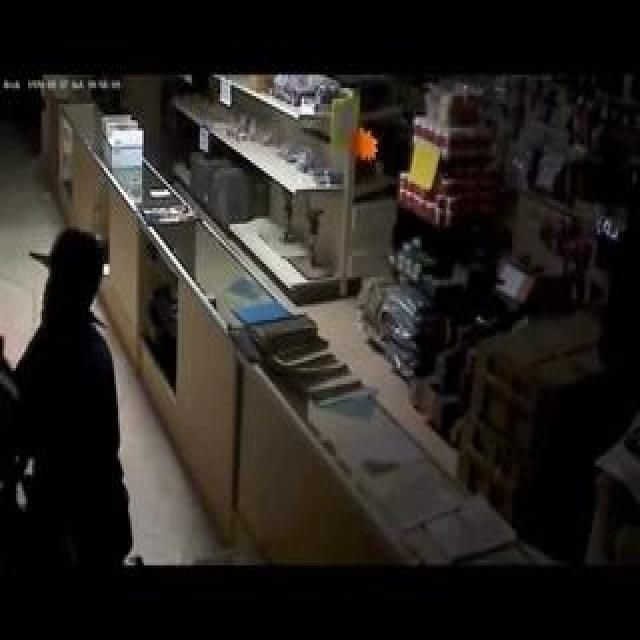thief: (31, 220, 152, 396)
